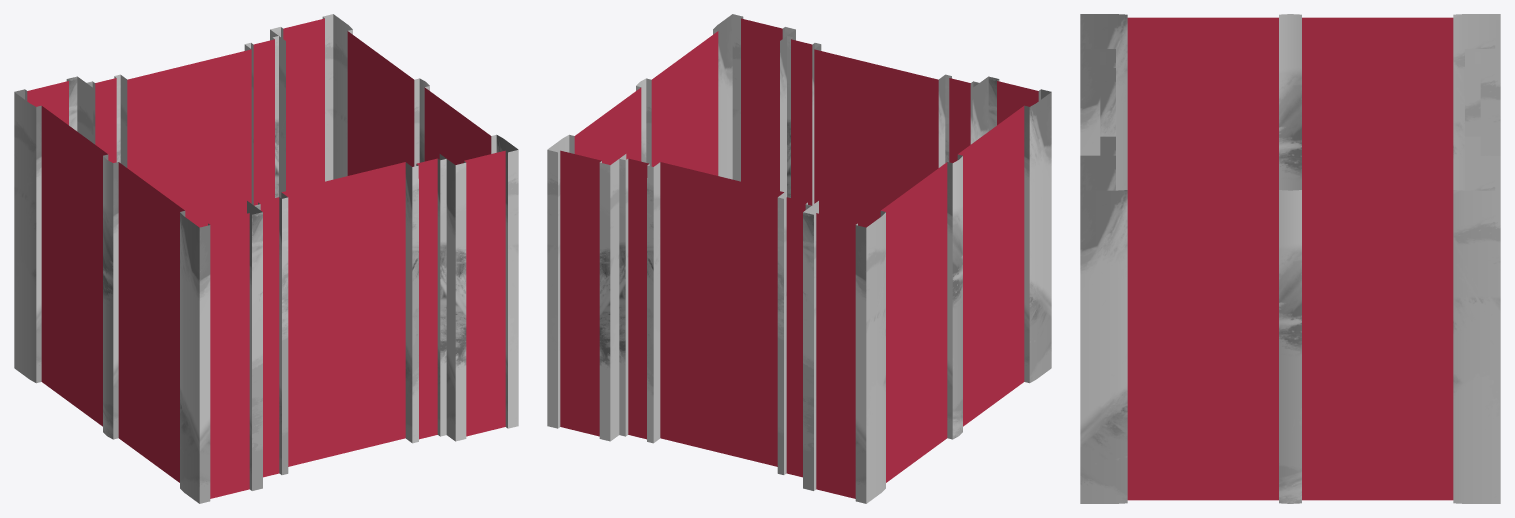
File: FoundationBuilding_AB.fbx
3 views of the same model, side by side, from view 1: azimuth 30°, elevation 25°; view 2: azimuth 150°, elevation 25°; view 3: azimuth 270°, elevation 25° (orthographic). The views are drawn at different scales.
Visible parts, largest first — view 1: Floor_A.002; view 2: Floor_A.002; view 3: Floor_A.002.
Part boxes in pixels (left/top/right/bottom): Floor_A.002: left=14, top=14, right=518, bottom=503; Floor_A.002: left=547, top=14, right=1051, bottom=503; Floor_A.002: left=1080, top=14, right=1500, bottom=503.
Bounding box in the file's own units: 7736 × 6400 × 7784.
